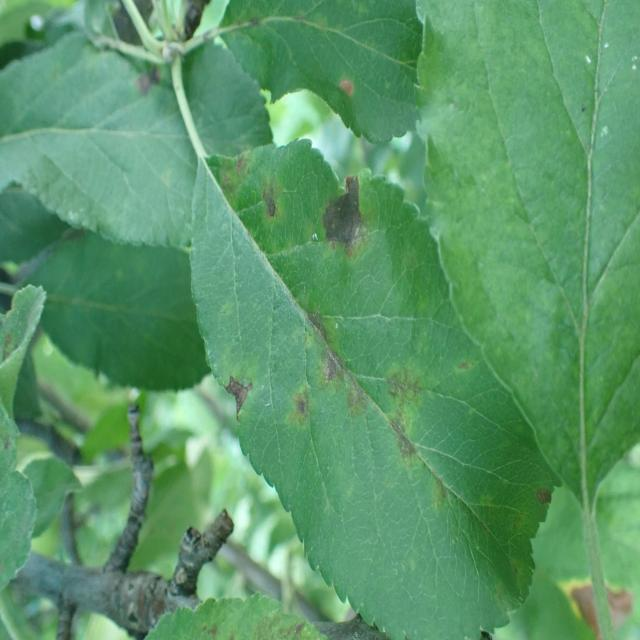scab: (210, 118, 483, 574)
